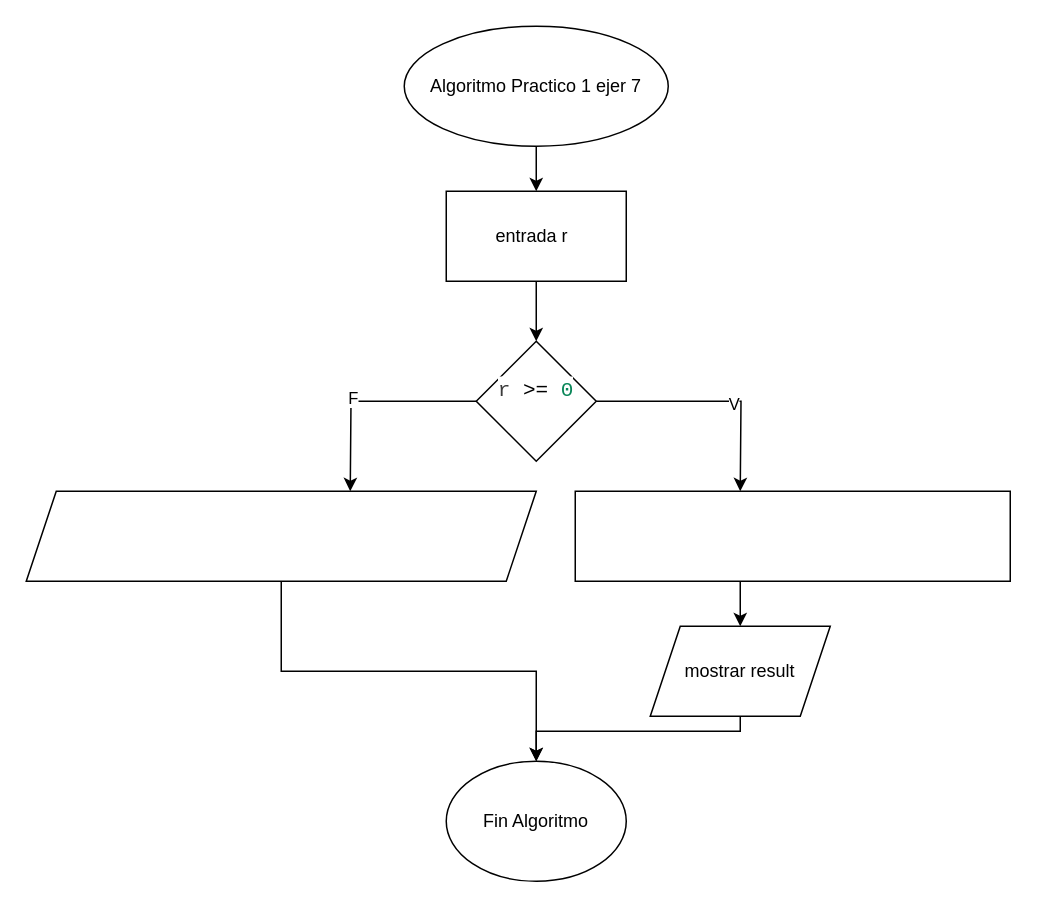
Image size: 1037x908. Some labels were removed from this diagram. The centre of each missing label's shape, as x and y in pixels:
definir result = 4 * 3.14 * r * r: [792,535]
mostrar "Error: Radius cannot be negative.": [280,535]
